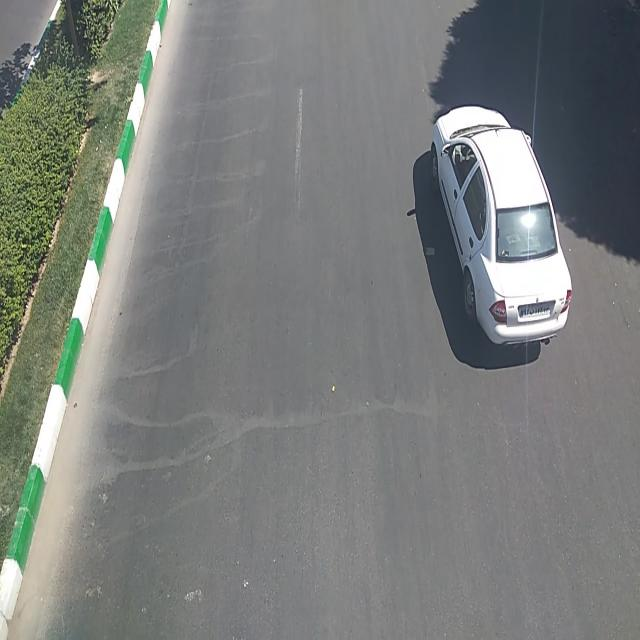car: (428, 108, 572, 344)
